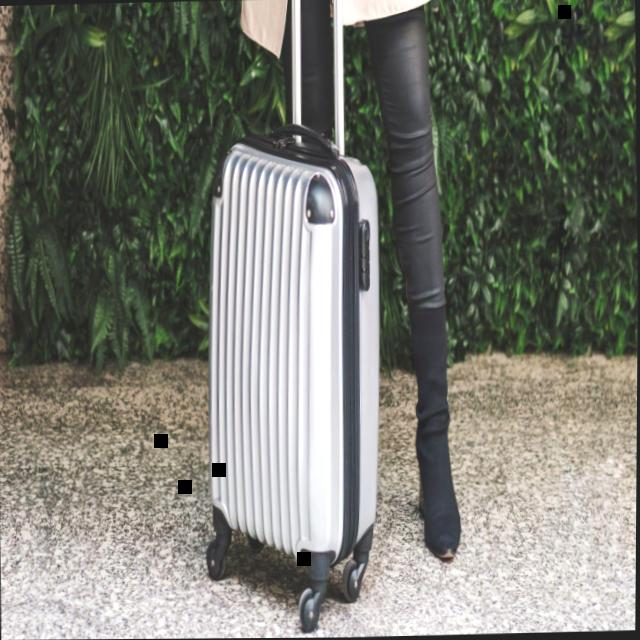luggage: (199, 125, 387, 577)
